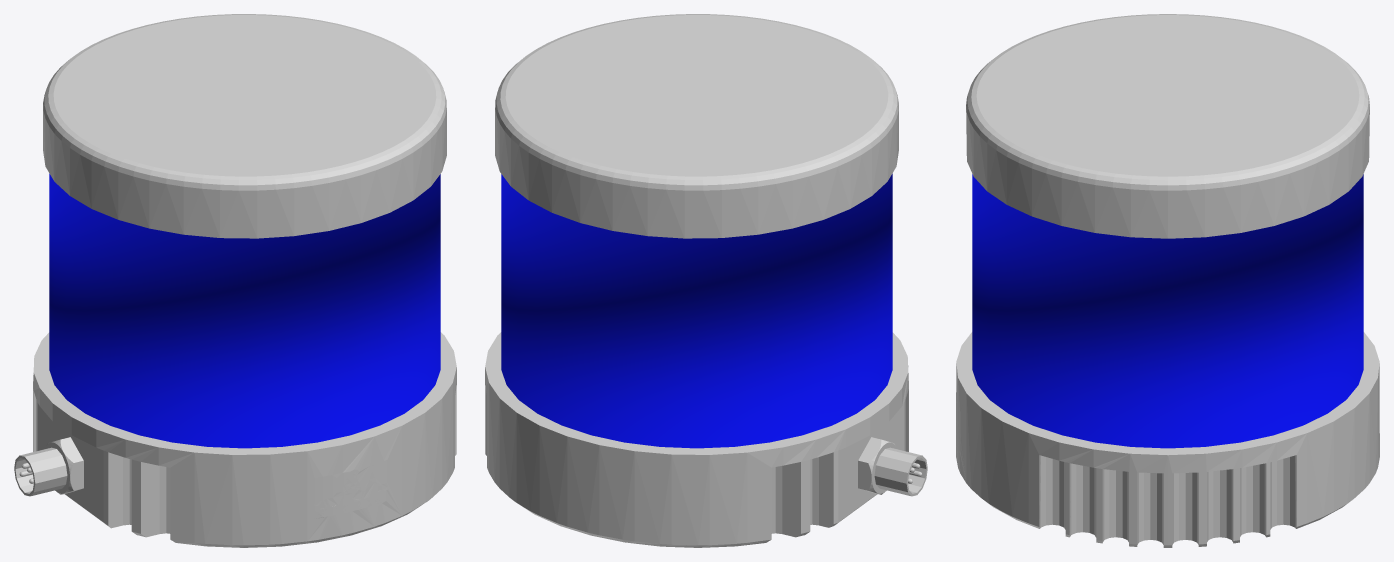
Rendered from LiDAR.dae.
3 views of the same model, side by side, from view 1: azimuth 30°, elevation 25°; view 2: azimuth 150°, elevation 25°; view 3: azimuth 270°, elevation 25° (orthographic).
Visible parts, largest first — view 1: LiDAR; view 2: LiDAR; view 3: LiDAR.
Part boxes in pixels (x1=…): LiDAR: x1=14, y1=14, x2=456, y2=547; LiDAR: x1=485, y1=14, x2=927, y2=547; LiDAR: x1=956, y1=14, x2=1379, y2=547.
Bounding box in the file's own units: 0.088 × 0.08 × 0.076.
